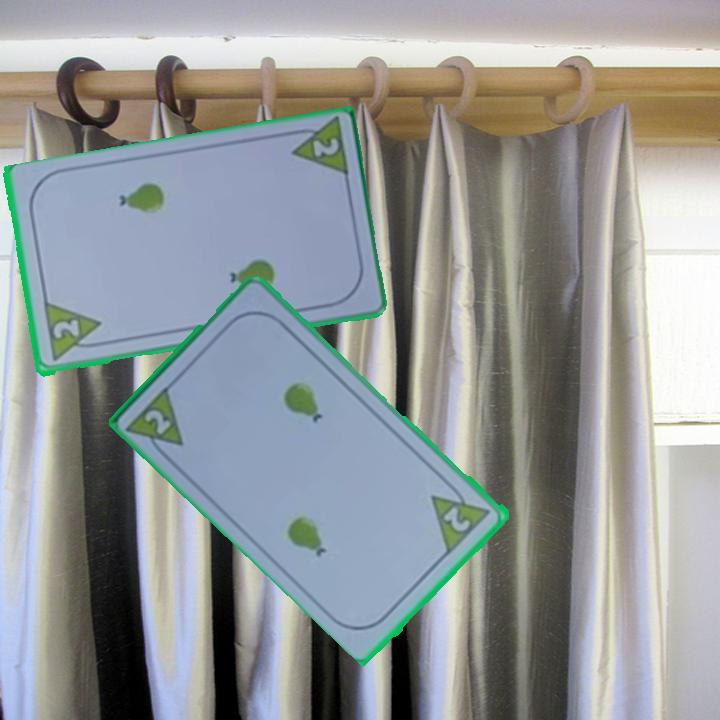2p: (124, 381, 188, 463), (283, 116, 352, 181), (39, 300, 106, 365), (440, 503, 475, 535)
